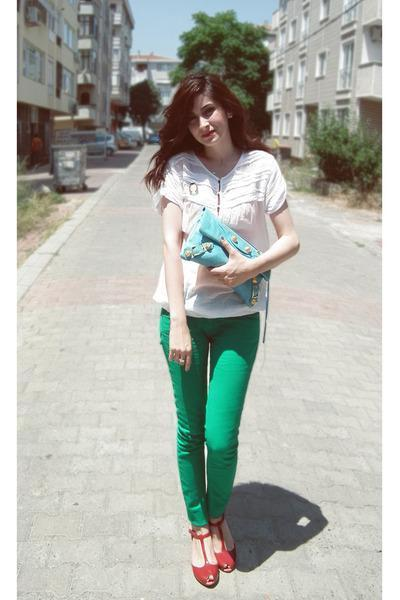short sleeve shirt: (149, 150, 292, 318)
trousers: (155, 308, 264, 528)
